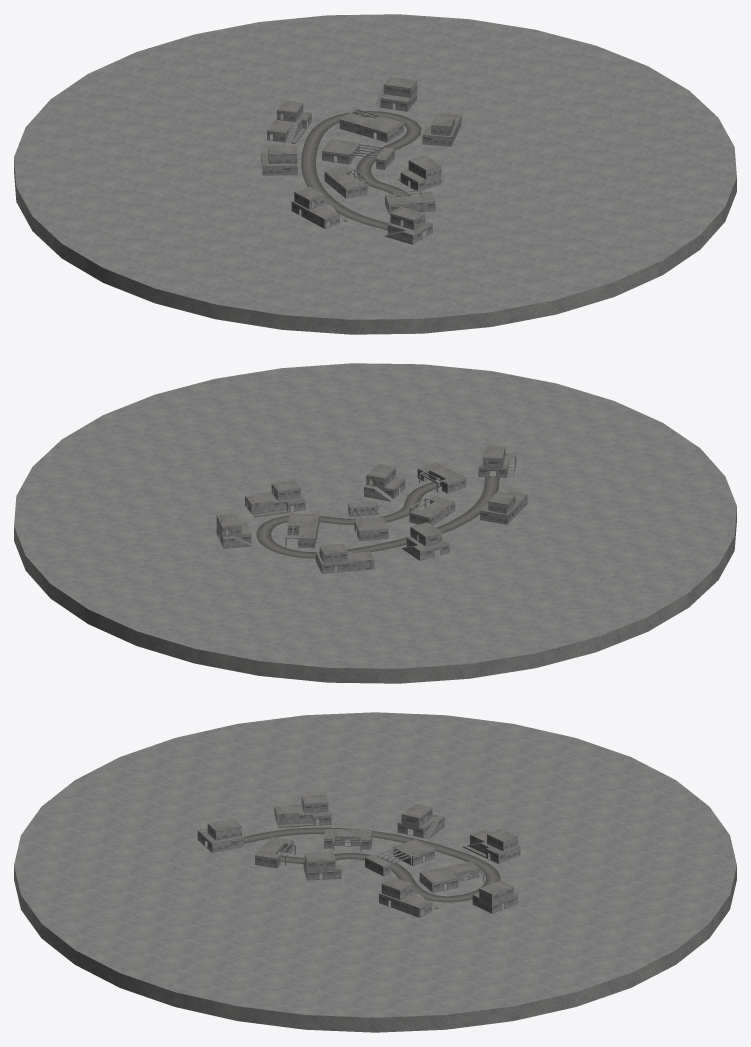
The model's file is shooting_game_enviornment_map_tdm5-opt.glb.
3 views of the same model, one above another, from view 1: azimuth 30°, elevation 25°; view 2: azimuth 150°, elevation 25°; view 3: azimuth 270°, elevation 25° (orthographic).
Parts seen in each view (by area): view 1: ground_ground_0, Building_1_Buildings_0, Road_Road_0; view 2: ground_ground_0, Building_1_Buildings_0, Road_Road_0; view 3: ground_ground_0, Building_1_Buildings_0, Road_Road_0.
Boxes of the visible parts, x1=… form: ground_ground_0: x1=14, y1=14, x2=736, y2=334; Building_1_Buildings_0: x1=261, y1=76, x2=461, y2=244; Road_Road_0: x1=301, y1=111, x2=421, y2=230; ground_ground_0: x1=14, y1=363, x2=736, y2=683; Building_1_Buildings_0: x1=216, y1=445, x2=527, y2=573; Road_Road_0: x1=256, y1=476, x2=499, y2=558; ground_ground_0: x1=14, y1=712, x2=736, y2=1032; Building_1_Buildings_0: x1=197, y1=794, x2=520, y2=917; Road_Road_0: x1=244, y1=827, x2=500, y2=902.
Bounding box in the file's own units: 211 × 11 × 211.
Materials: 3 (3 with a texture image).
